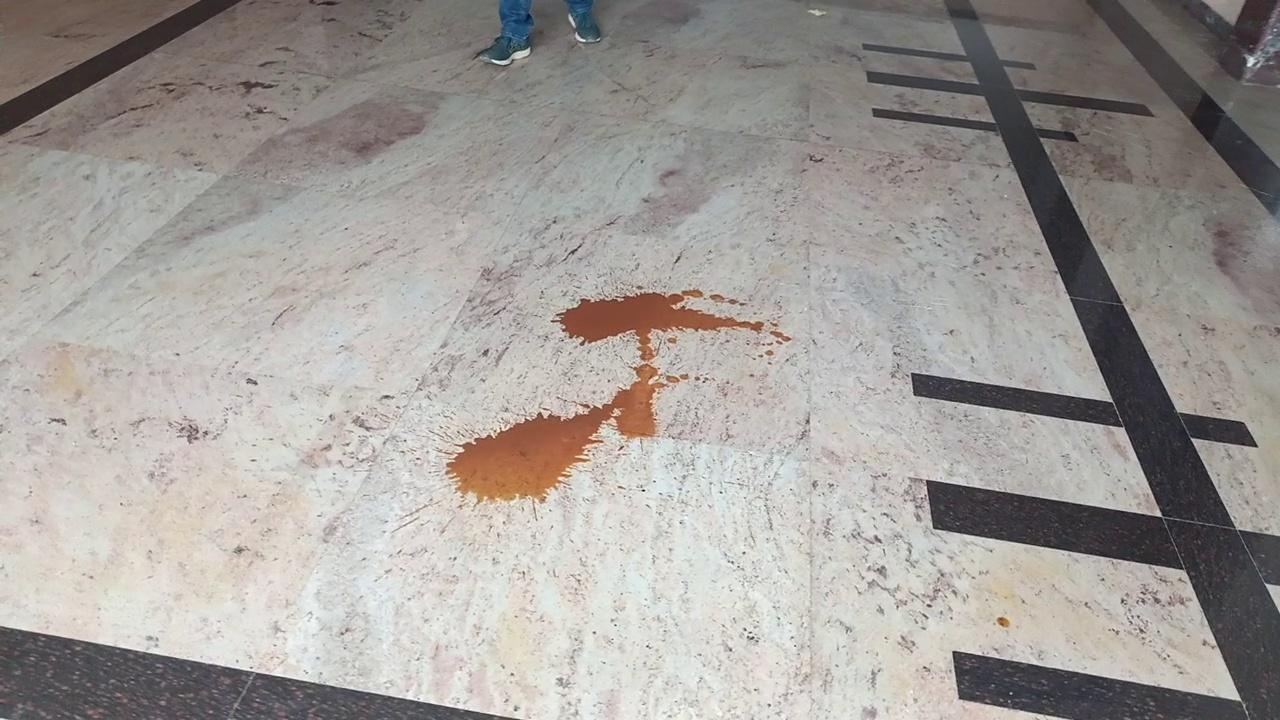dirty_floor: (445, 283, 786, 519)
